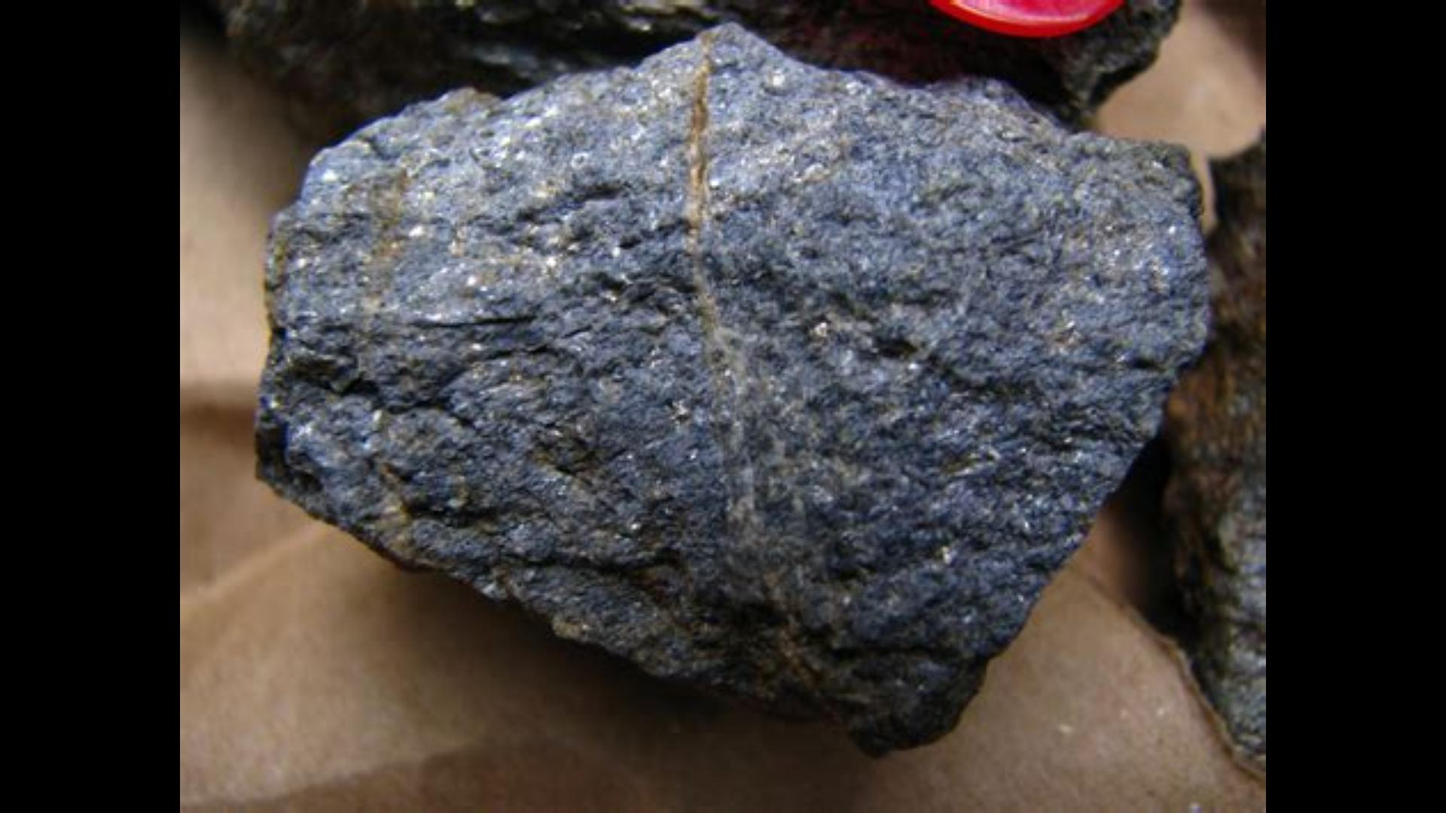rock: (265, 25, 1204, 747)
